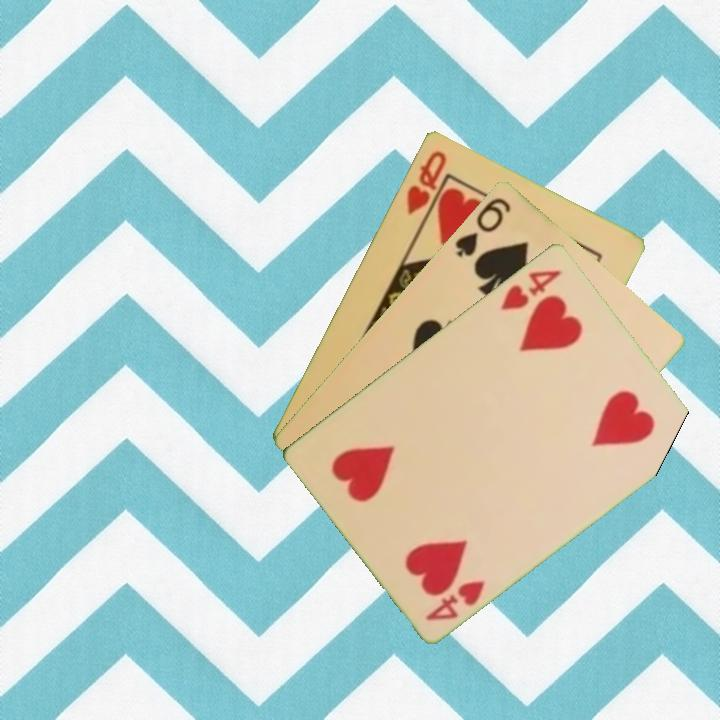4h: (497, 265, 564, 313), (422, 576, 489, 623)
6s: (451, 193, 514, 260)
Qh: (402, 146, 449, 218)
